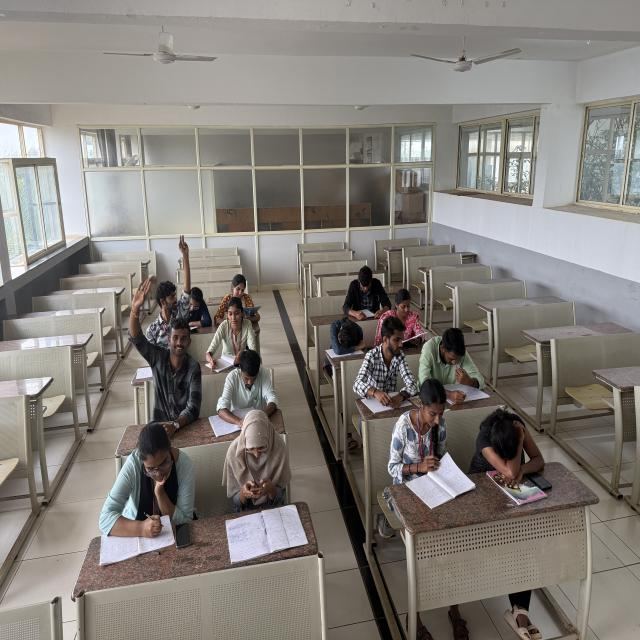Hand Rising: (122, 274, 207, 422), (151, 232, 195, 344)
Reading: (386, 377, 474, 509), (206, 343, 278, 440), (413, 324, 490, 408), (378, 288, 431, 352), (342, 263, 391, 322), (214, 271, 263, 327)
Sleeping: (463, 394, 547, 491), (322, 303, 374, 363)
Using Phone: (216, 403, 302, 526)
Writing: (94, 419, 204, 562), (354, 315, 416, 419), (206, 295, 256, 375), (178, 285, 216, 337)
